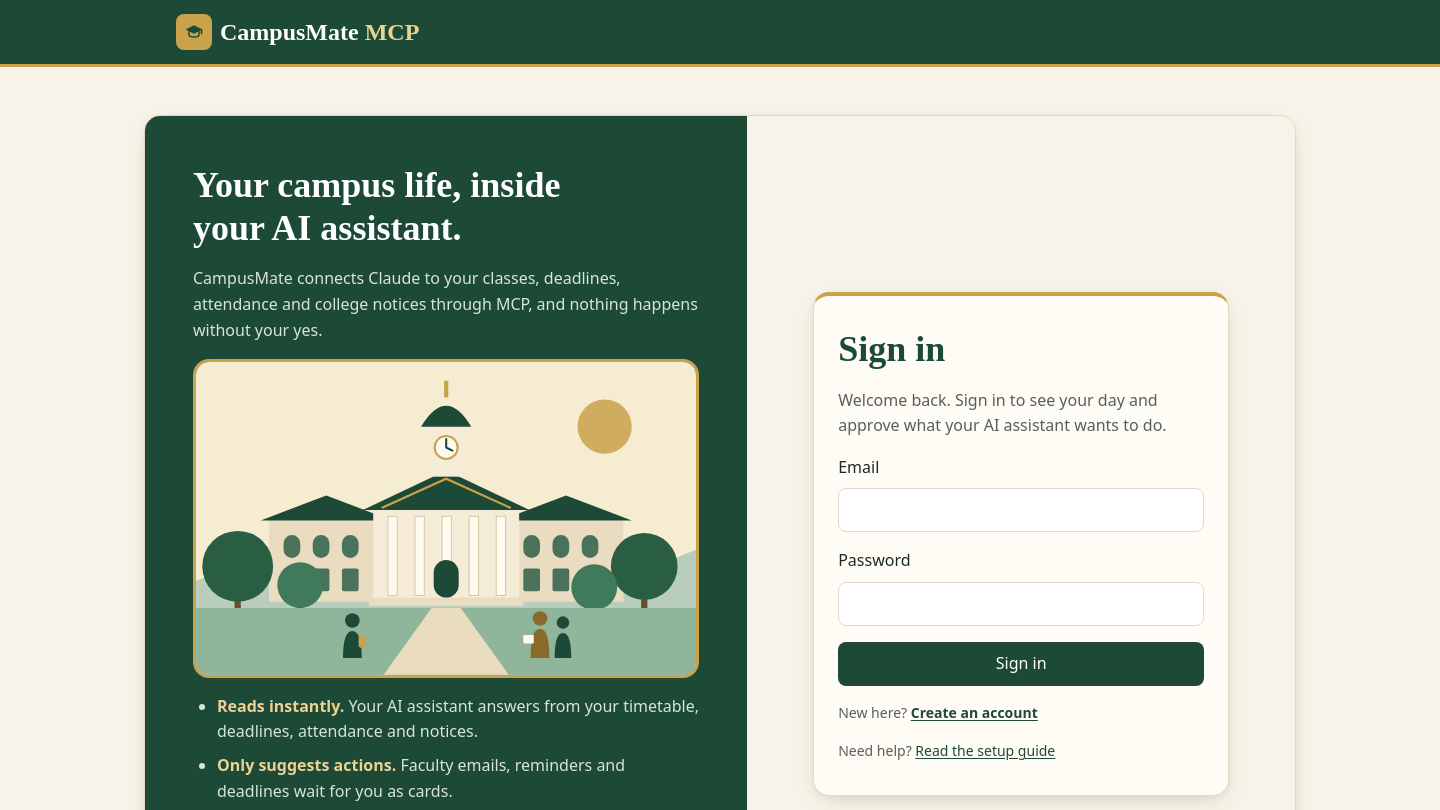
Test: login lockout › shows how long to wait after too many wrong passcodes
Type "ananya@college.test" into the field labelled "Email".
click(1021, 510); type("ananya@college.test")  # box [838,488,1204,532]
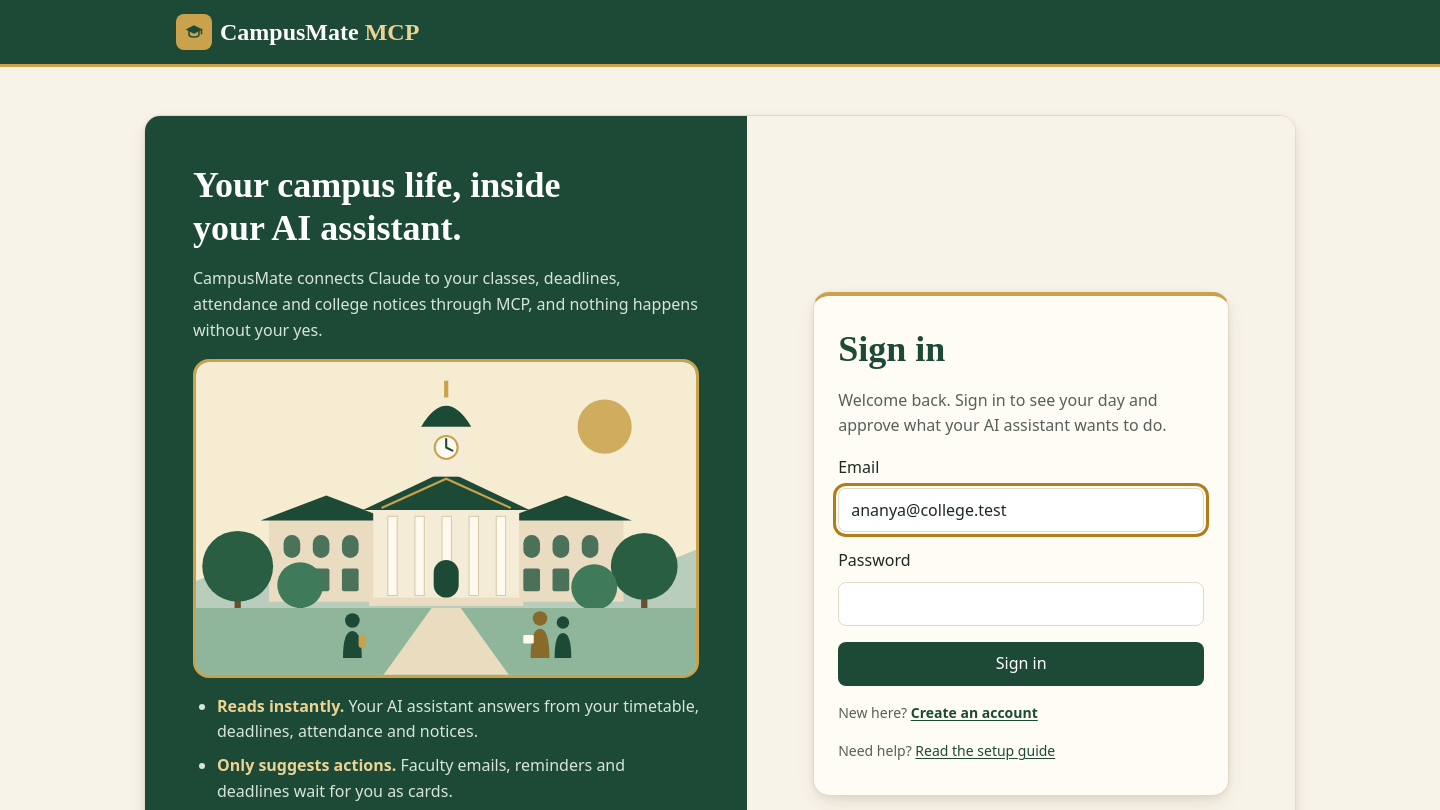
Type "another-guess-12" into the password field labelled "Password".
click(1021, 604); type("another-guess-12")  # box [838,582,1204,626]
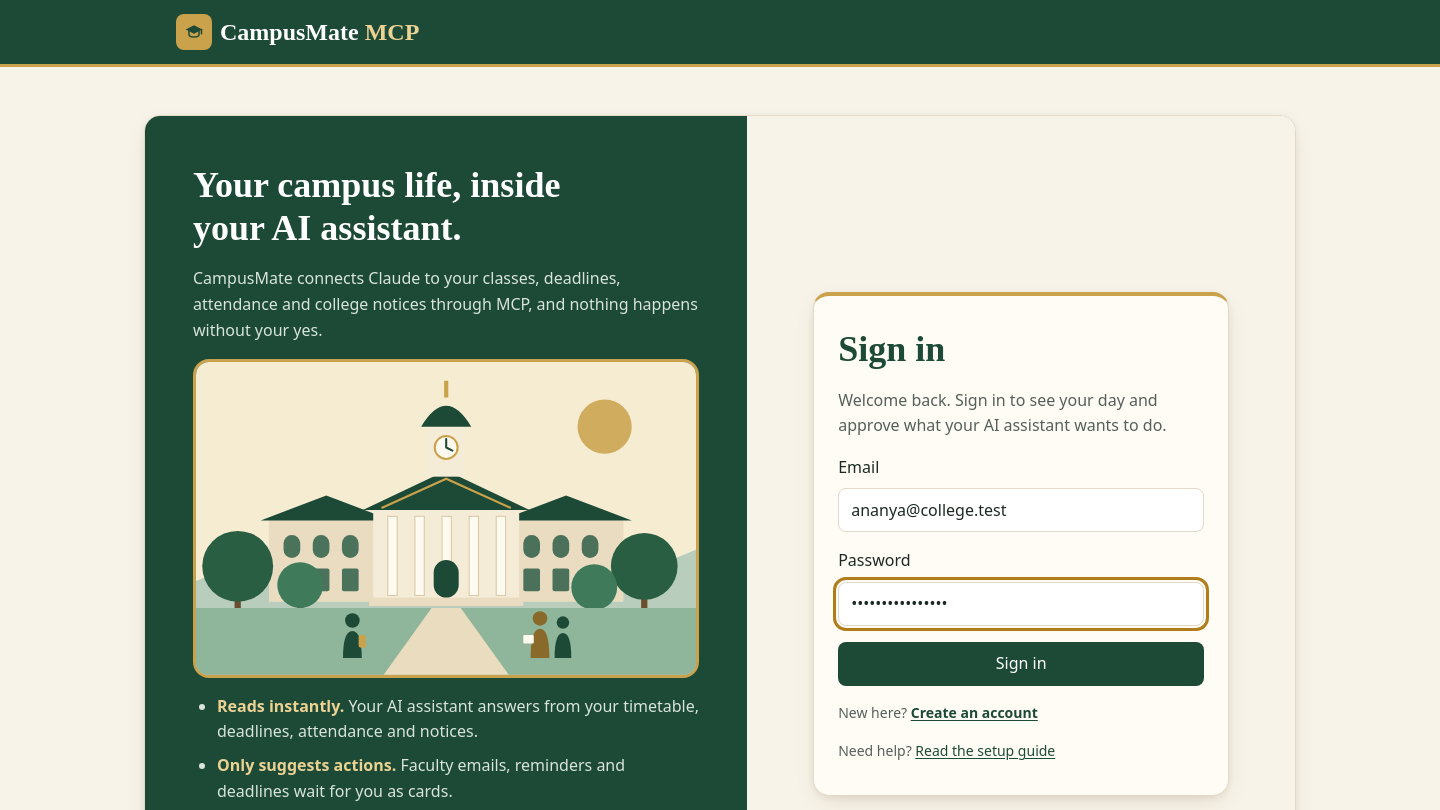
Click the button "Sign in".
click(1021, 664)  # box [838,642,1204,686]
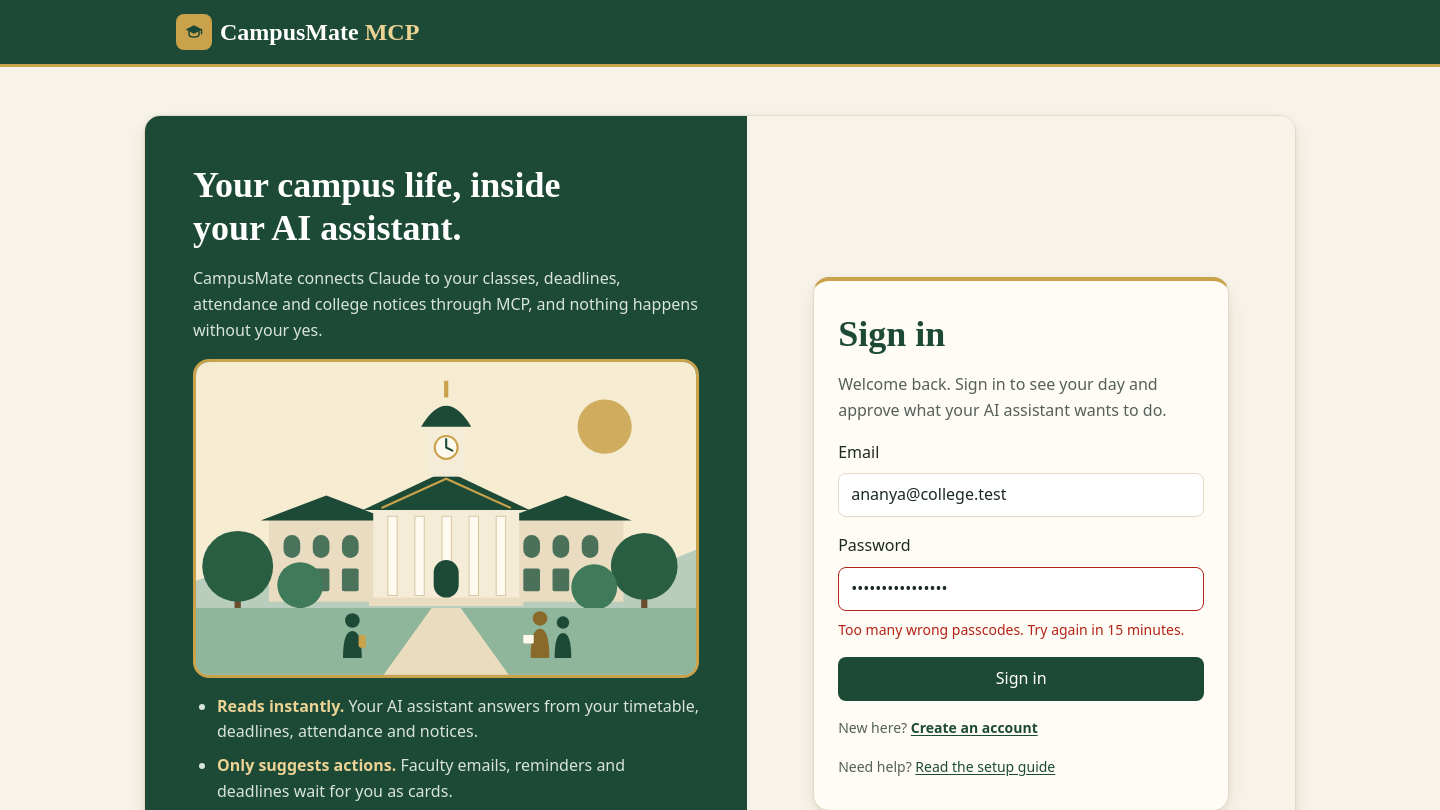
Check: the message shows "Try again in 15 minutes", box [838,620,1184,639]
